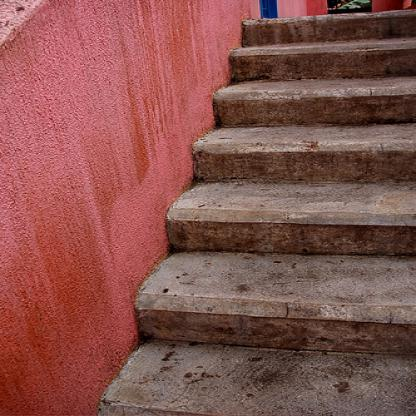stairs: (209, 152, 416, 412)
